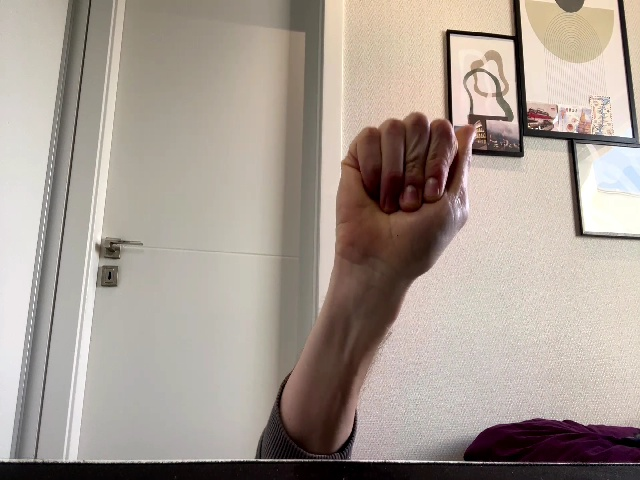A: (336, 113, 476, 268)
